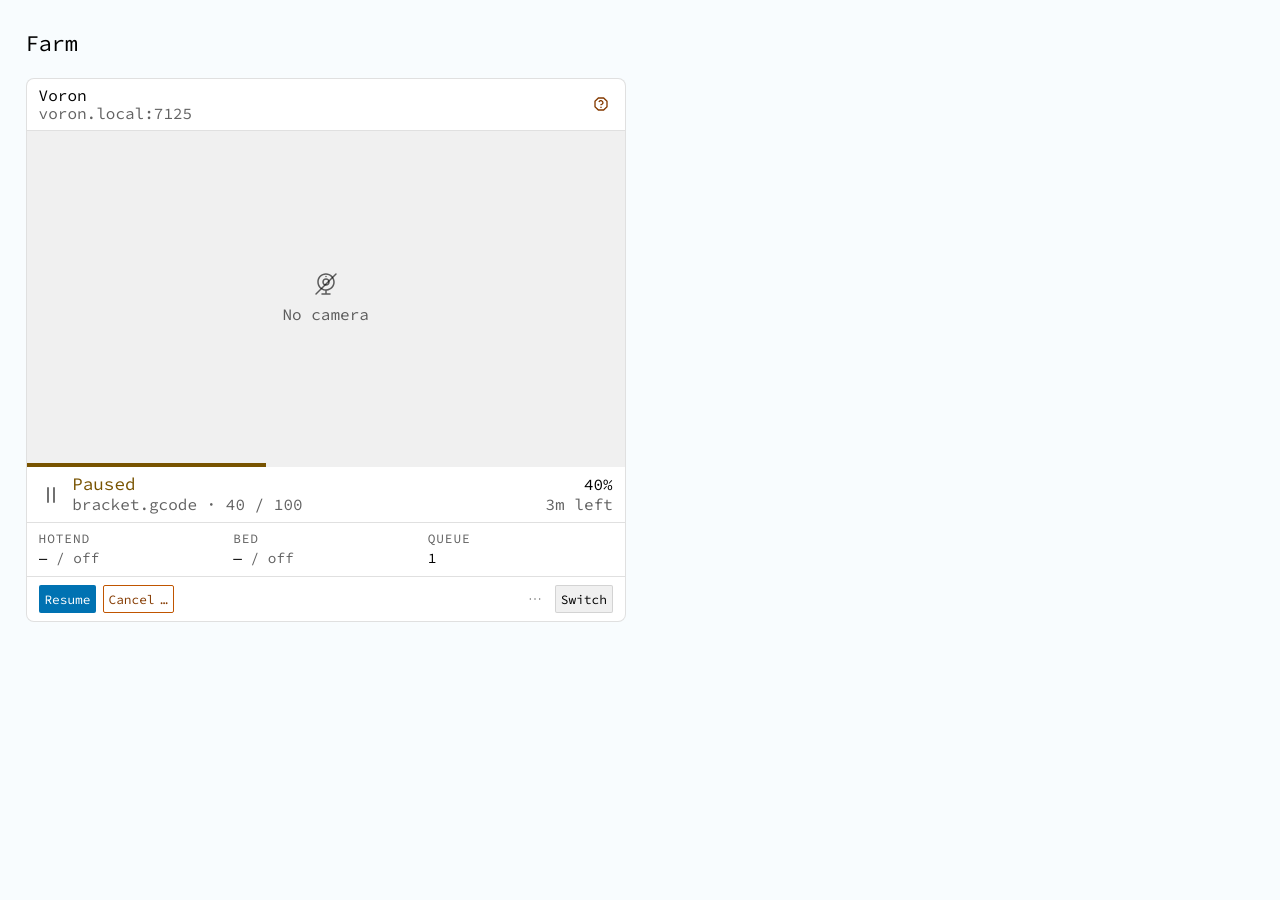
Test: the farm grid › opens the confirmation a guarded card action asks for
Click the button "Cancel".
click(138, 599)  # box [103,585,174,613]
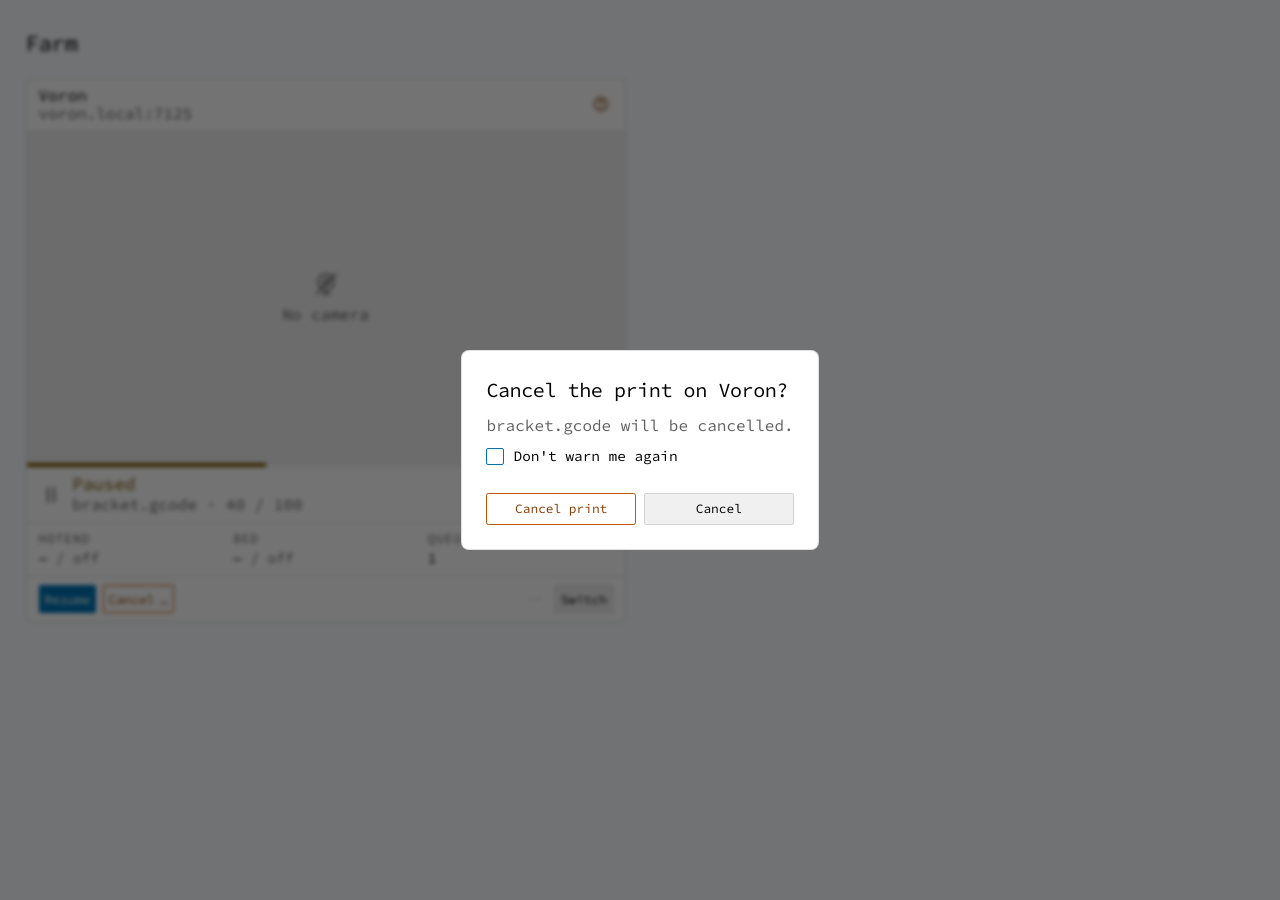
Now the dialog with class "confirm-dialog" is shown, box [461,350,819,550]
Now the dialog with class "confirm-dialog" shows "Voron", box [486,377,788,402]
